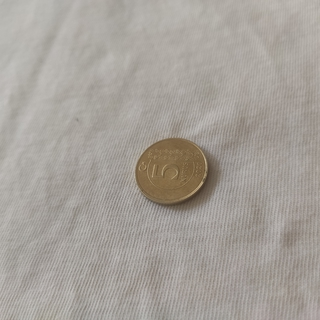5KURUS: (134, 136, 210, 207)
